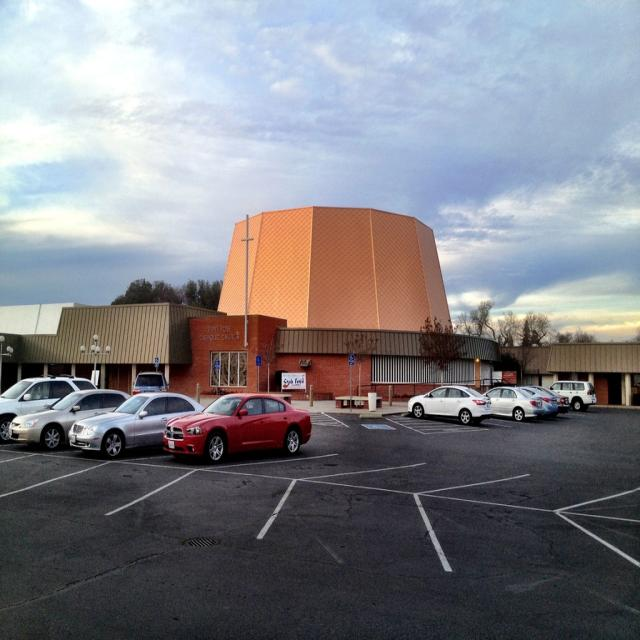car: (158, 390, 311, 464), (404, 381, 489, 423)
